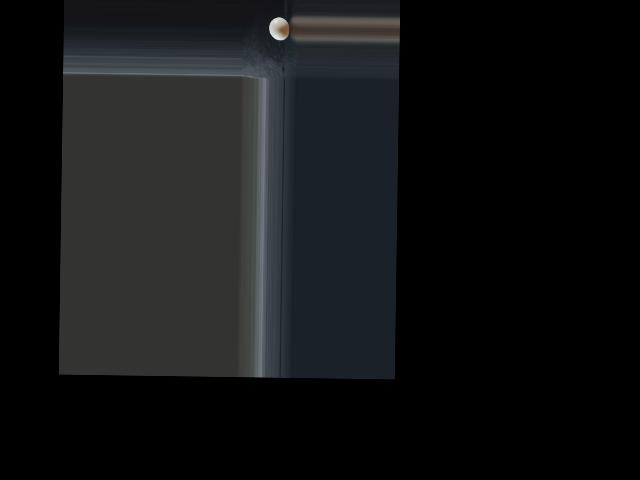egg: (268, 17, 289, 41)
